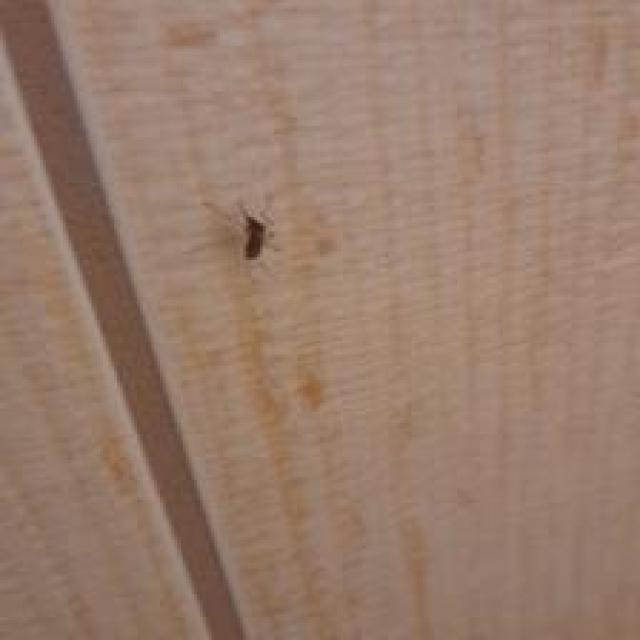Culex: (240, 206, 269, 260)
